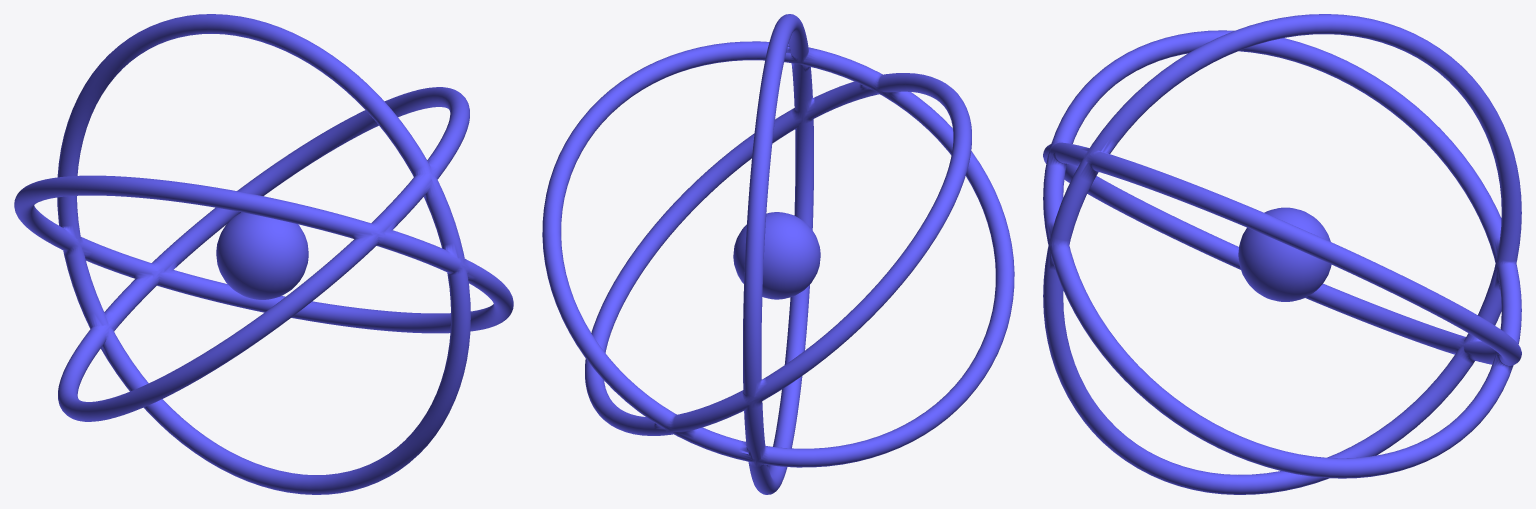
3 renders of one model, left to right at view 1: azimuth 30°, elevation 25°; view 2: azimuth 150°, elevation 25°; view 3: azimuth 270°, elevation 25°, orthographic. The views are drawn at different scales.
Parts seen in each view (by area): view 1: Torus.002, Sphere; view 2: Torus.002, Sphere; view 3: Torus.002, Sphere.
Part boxes in pixels (<box>): Torus.002: <box>14,14,513,494</box>; Sphere: <box>216,212,308,299</box>; Torus.002: <box>542,14,1014,494</box>; Sphere: <box>733,212,820,299</box>; Torus.002: <box>1043,14,1521,494</box>; Sphere: <box>1238,207,1331,301</box>.
Size of the model in its own units: 0.4909 by 0.5511 by 0.5071.
